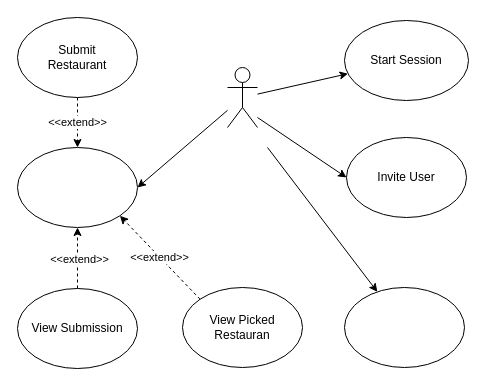
Some shapes in this 486 by 386 pixel diagram are drawn without their labels. Each missing label, with the box of its shape:
End Session: (344, 286, 464, 368)
Join Session: (16, 146, 138, 228)
User: (226, 66, 258, 128)
